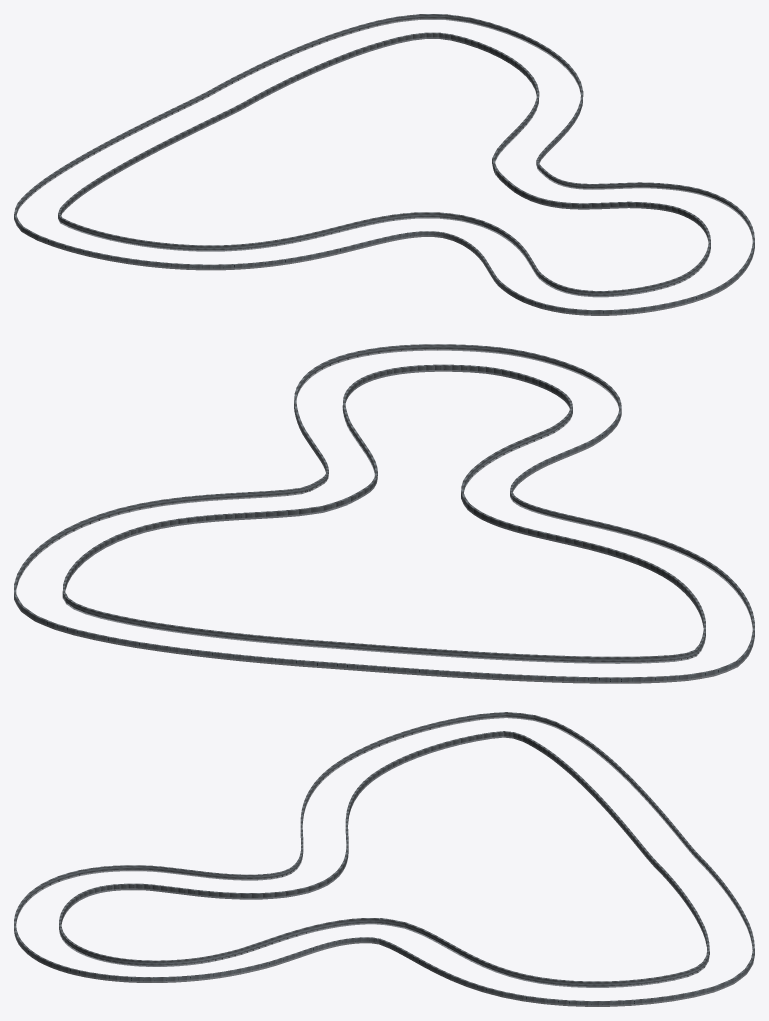
File: track2final_Twalls.obj
The picture shows the model from 3 angles, top to bottom: view 1: azimuth 30°, elevation 25°; view 2: azimuth 150°, elevation 25°; view 3: azimuth 270°, elevation 25°; orthographic projection. The views are drawn at different scales.
Parts seen in each view (by area): view 1: Circuit_Cube.001; view 2: Circuit_Cube.001; view 3: Circuit_Cube.001.
Boxes of the visible parts, <box> form: Circuit_Cube.001: <box>14,14,754,315</box>; Circuit_Cube.001: <box>14,344,754,683</box>; Circuit_Cube.001: <box>14,712,754,1006</box>.
Size of the model in its own units: 561 by 17.28 by 606.
